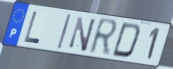1: (146, 27, 161, 62)
D: (110, 21, 143, 60)
I: (56, 14, 72, 51)
L: (23, 10, 41, 46)
N: (68, 15, 98, 54)
R: (87, 17, 120, 58)
